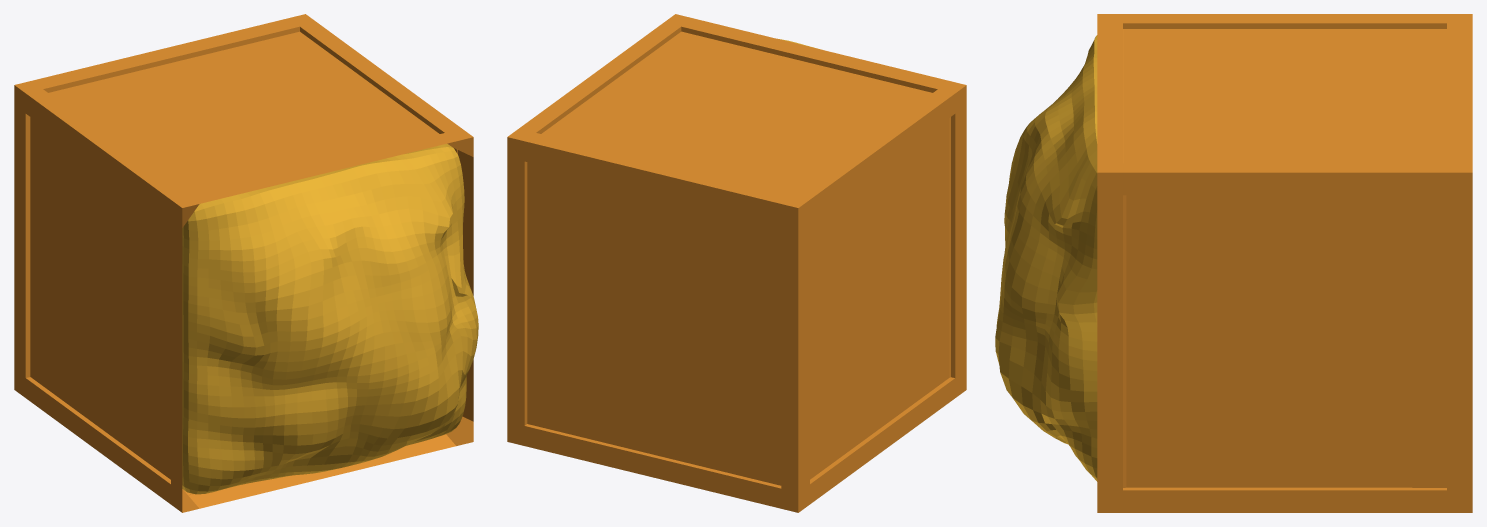
Rendered from sand.gltf.
The picture shows the model from 3 angles, left to right: view 1: azimuth 30°, elevation 25°; view 2: azimuth 150°, elevation 25°; view 3: azimuth 270°, elevation 25°; orthographic projection. The views are drawn at different scales.
Visible parts, largest first — view 1: Crate, Cube; view 2: Crate; view 3: Crate, Cube.
Part boxes in pixels (<box>): Crate: <box>14,14,473,512</box>; Cube: <box>182,143,478,494</box>; Crate: <box>507,14,966,512</box>; Crate: <box>1097,14,1472,512</box>; Cube: <box>995,35,1097,481</box>.
Size of the model in its own units: 0.3001 by 0.3 by 0.3817.
